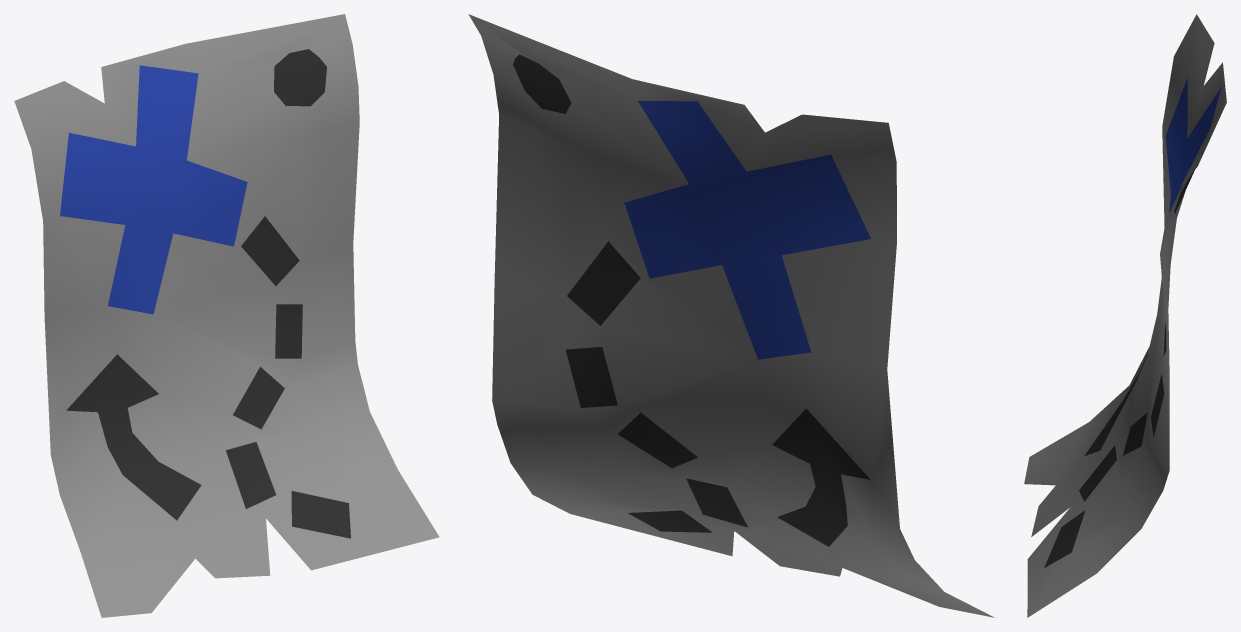
File: Map_mm.fbx
3 renders of one model, left to right at view 1: azimuth 30°, elevation 25°; view 2: azimuth 150°, elevation 25°; view 3: azimuth 270°, elevation 25°, orthographic. The views are drawn at different scales.
Visible parts, largest first — view 1: Map; view 2: Map; view 3: Map.
Part boxes in pixels (x1=…): Map: x1=14, y1=14, x2=439, y2=617; Map: x1=468, y1=14, x2=994, y2=617; Map: x1=1024, y1=14, x2=1226, y2=617.
Size of the model in its own units: 57.47 by 75.4 by 30.63.
